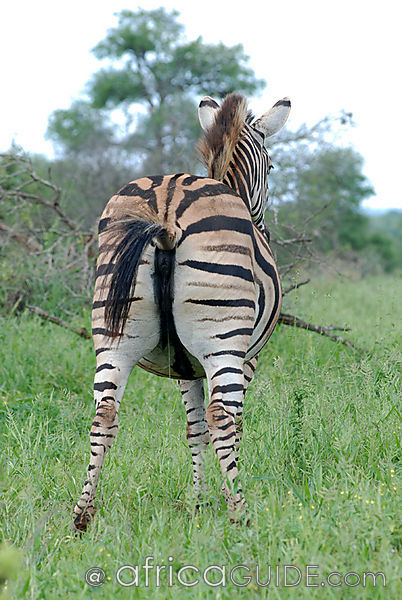zebra: (71, 89, 298, 537)
